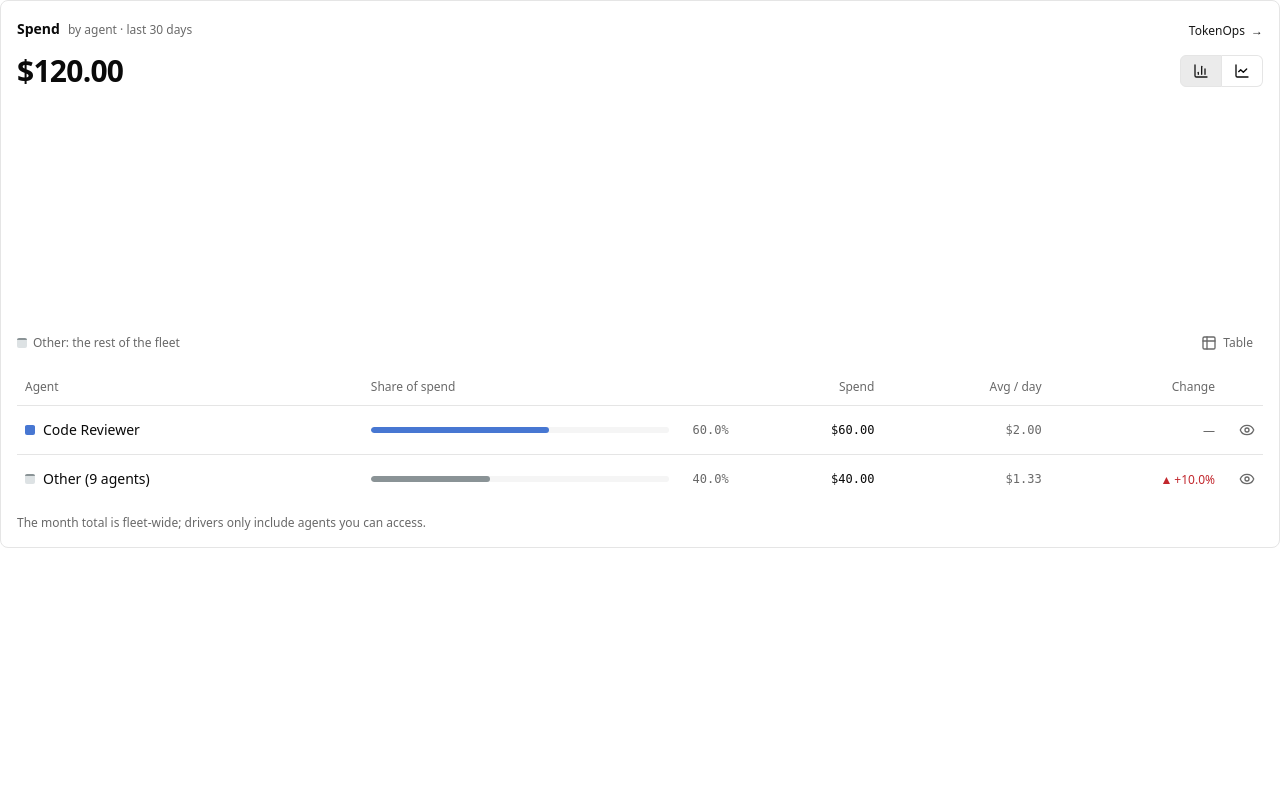
it: Spend chart › lists Other, and a row's eye hides its series but never the last one
Check: the number of rows with test id "spend-driver" is 2, box [17,405,1263,454]; [17,454,1263,502]
Click the button named "Show Code Reviewer in the chart" at (1247, 430), box [1231,414,1263,446]
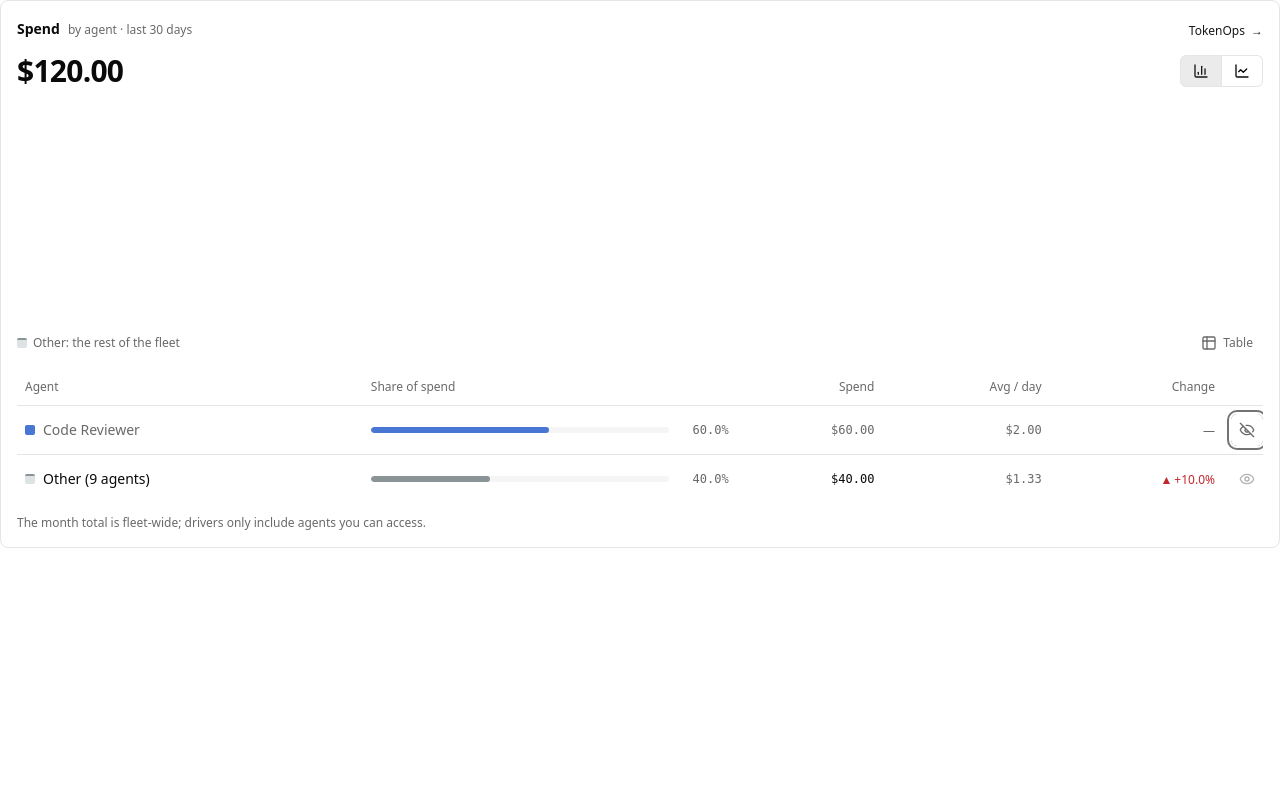
Check: the button named "Show Other (9 agents) in the chart" is disabled, box [1231,462,1263,494]
